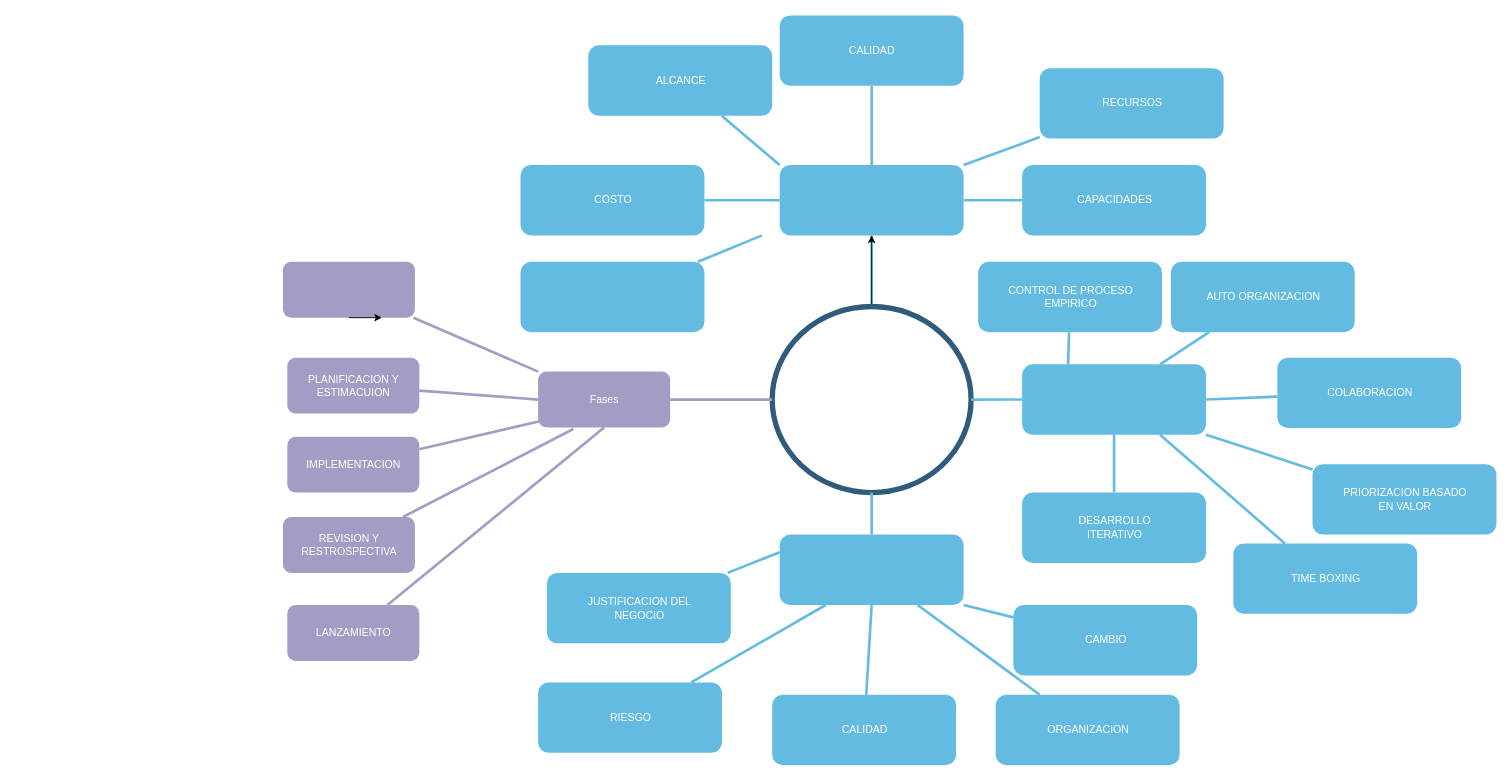
Some shapes in this 1511 by 780 pixel diagram are drawn without their labels. Each missing label, with the centre of its shape:
"ASPECTOS" belongs at [871,569].
"INICIO" belongs at [348,289].
"PRINCIPIOS" belongs at [1114,399].
"Scrum" belongs at [871,399].
"TIEMPO" belongs at [612,296].
"VARIABLES QUE IMPACTA" belongs at [871,200].
